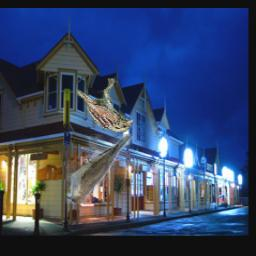Cuckoo: (66, 134, 134, 204)
Sparrow: (77, 79, 134, 133)
